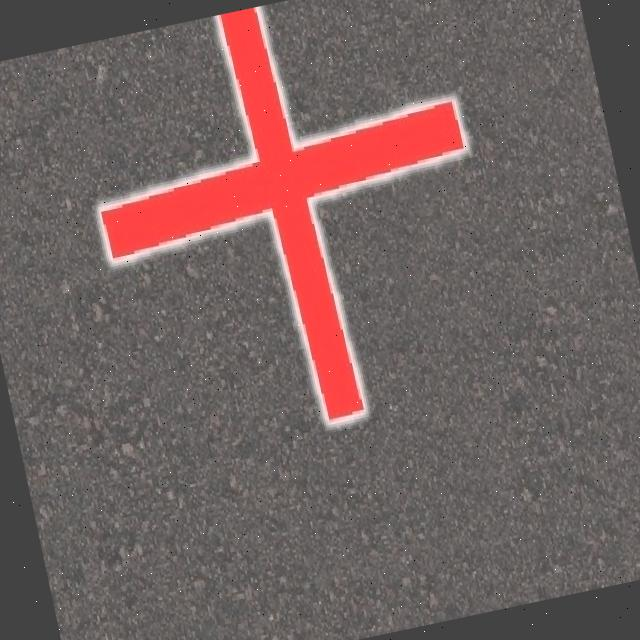x_marker: (64, 0, 513, 456)
